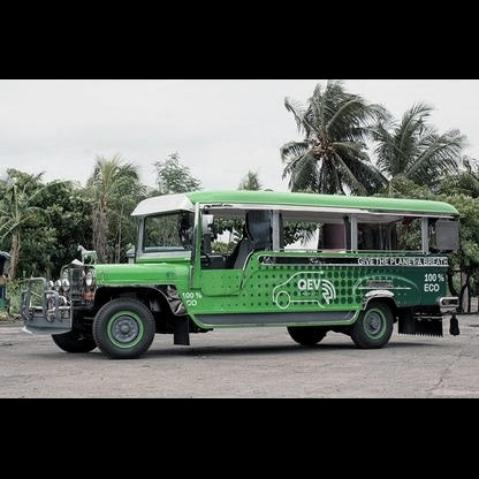jeepney: (17, 170, 479, 371)
